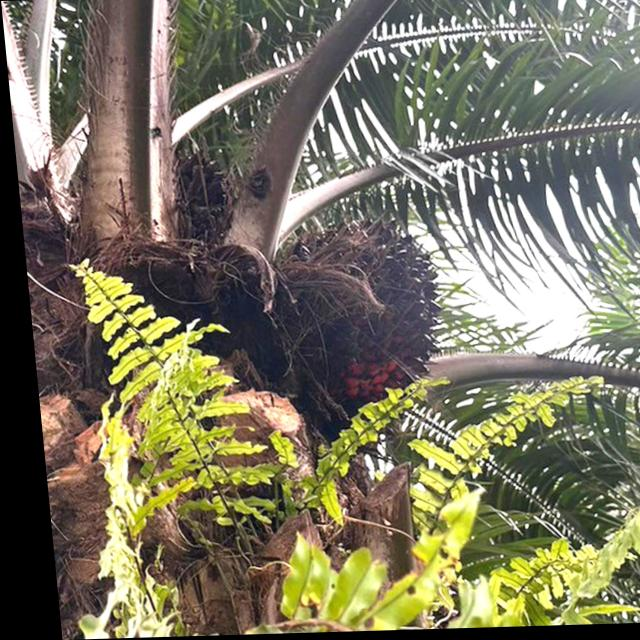ripe: (256, 200, 461, 418)
